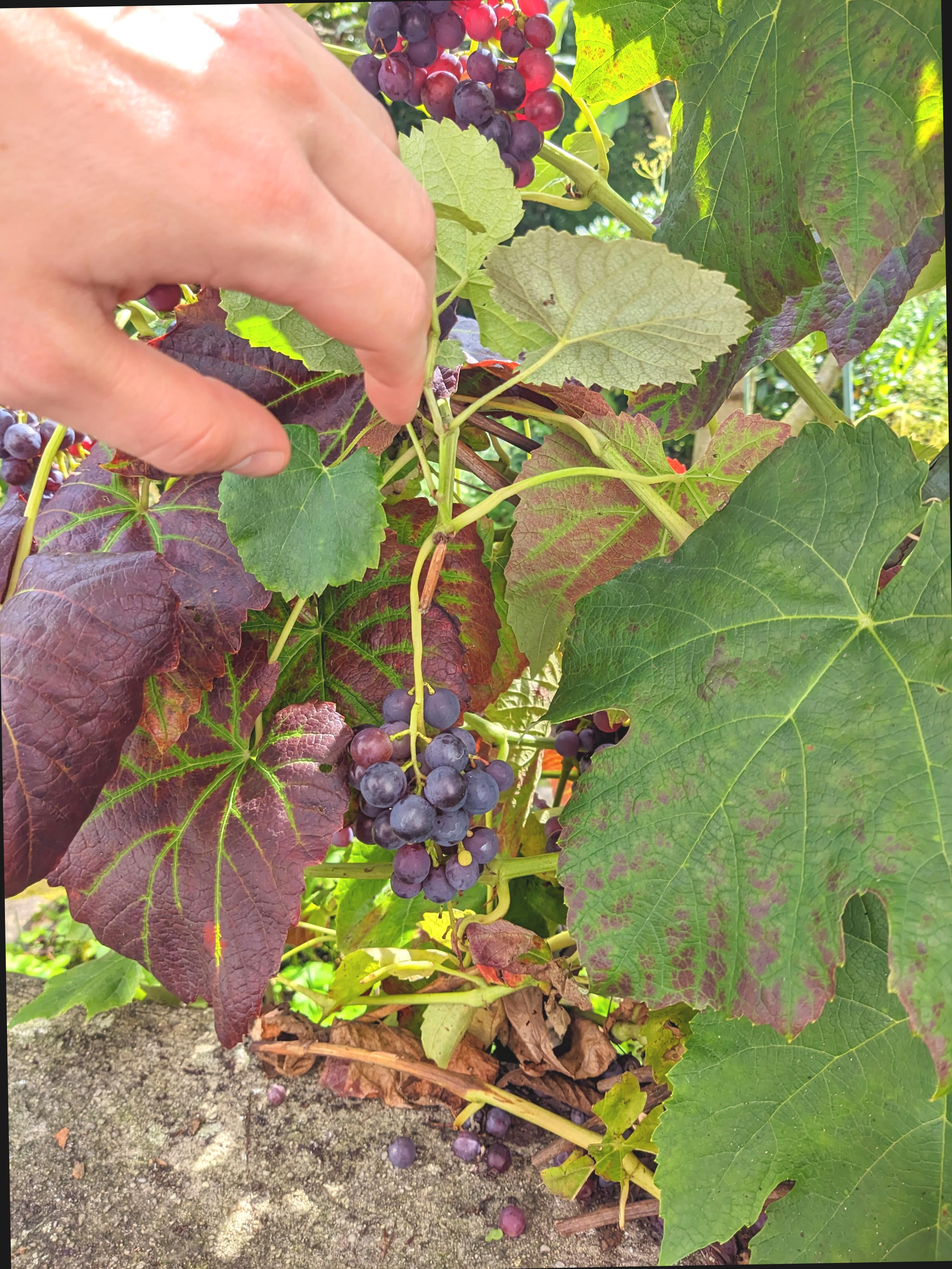Grape Ripe: (337, 7, 557, 199), (322, 692, 511, 912), (0, 418, 77, 501)
